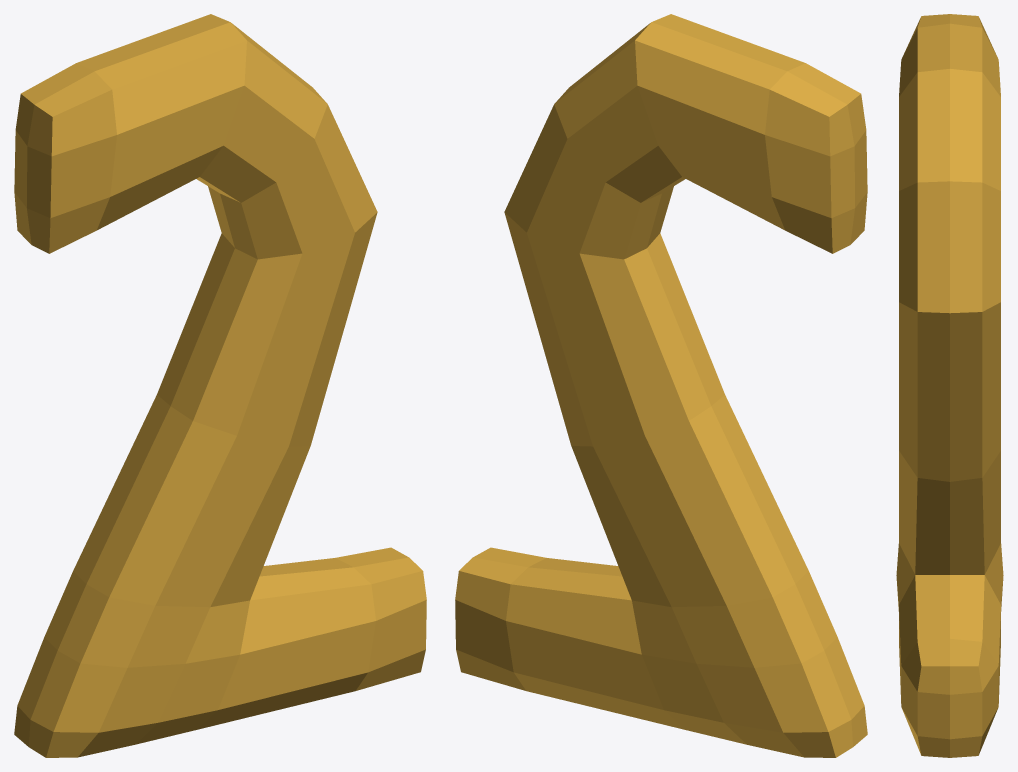
3 renders of one model, left to right at view 1: azimuth 30°, elevation 25°; view 2: azimuth 150°, elevation 25°; view 3: azimuth 270°, elevation 25°, orthographic. The views are drawn at different scales.
Parts seen in each view (by area): view 1: 2; view 2: 2; view 3: 2.
Boxes of the visible parts, x1=… form: 2: x1=14, y1=14, x2=426, y2=757; 2: x1=455, y1=14, x2=867, y2=757; 2: x1=896, y1=14, x2=1003, y2=757.
Bounding box in the file's own units: 42.37 × 71.39 × 11.28.
